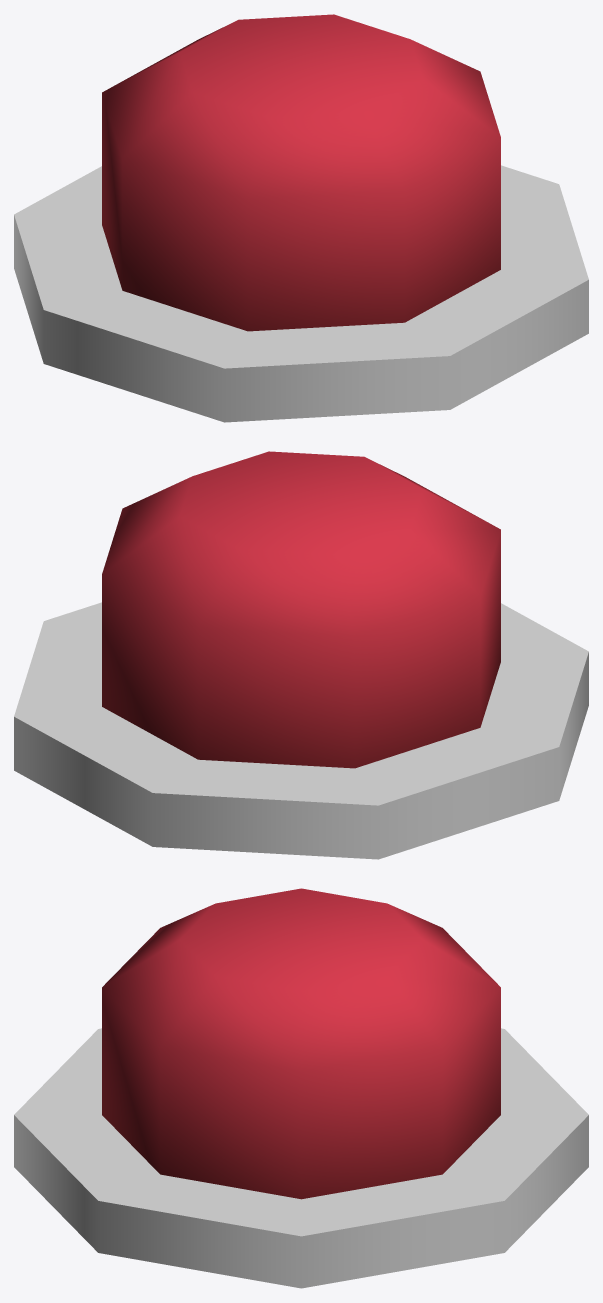
Rendered from BigButton.fbx.
3 views of the same model, one above another, from view 1: azimuth 30°, elevation 25°; view 2: azimuth 150°, elevation 25°; view 3: azimuth 270°, elevation 25° (orthographic). The views are drawn at different scales.
Visible parts, largest first — view 1: Circle.001, Circle; view 2: Circle.001, Circle; view 3: Circle.001, Circle.
Part boxes in pixels (box(x1,y1,x2,y2)): Circle.001: box(102, 14, 500, 331); Circle: box(14, 165, 588, 422); Circle.001: box(102, 451, 500, 768); Circle: box(14, 602, 588, 859); Circle.001: box(102, 888, 500, 1199); Circle: box(14, 1028, 588, 1288).
Bounding box in the file's own units: 100 × 43.61 × 100.
